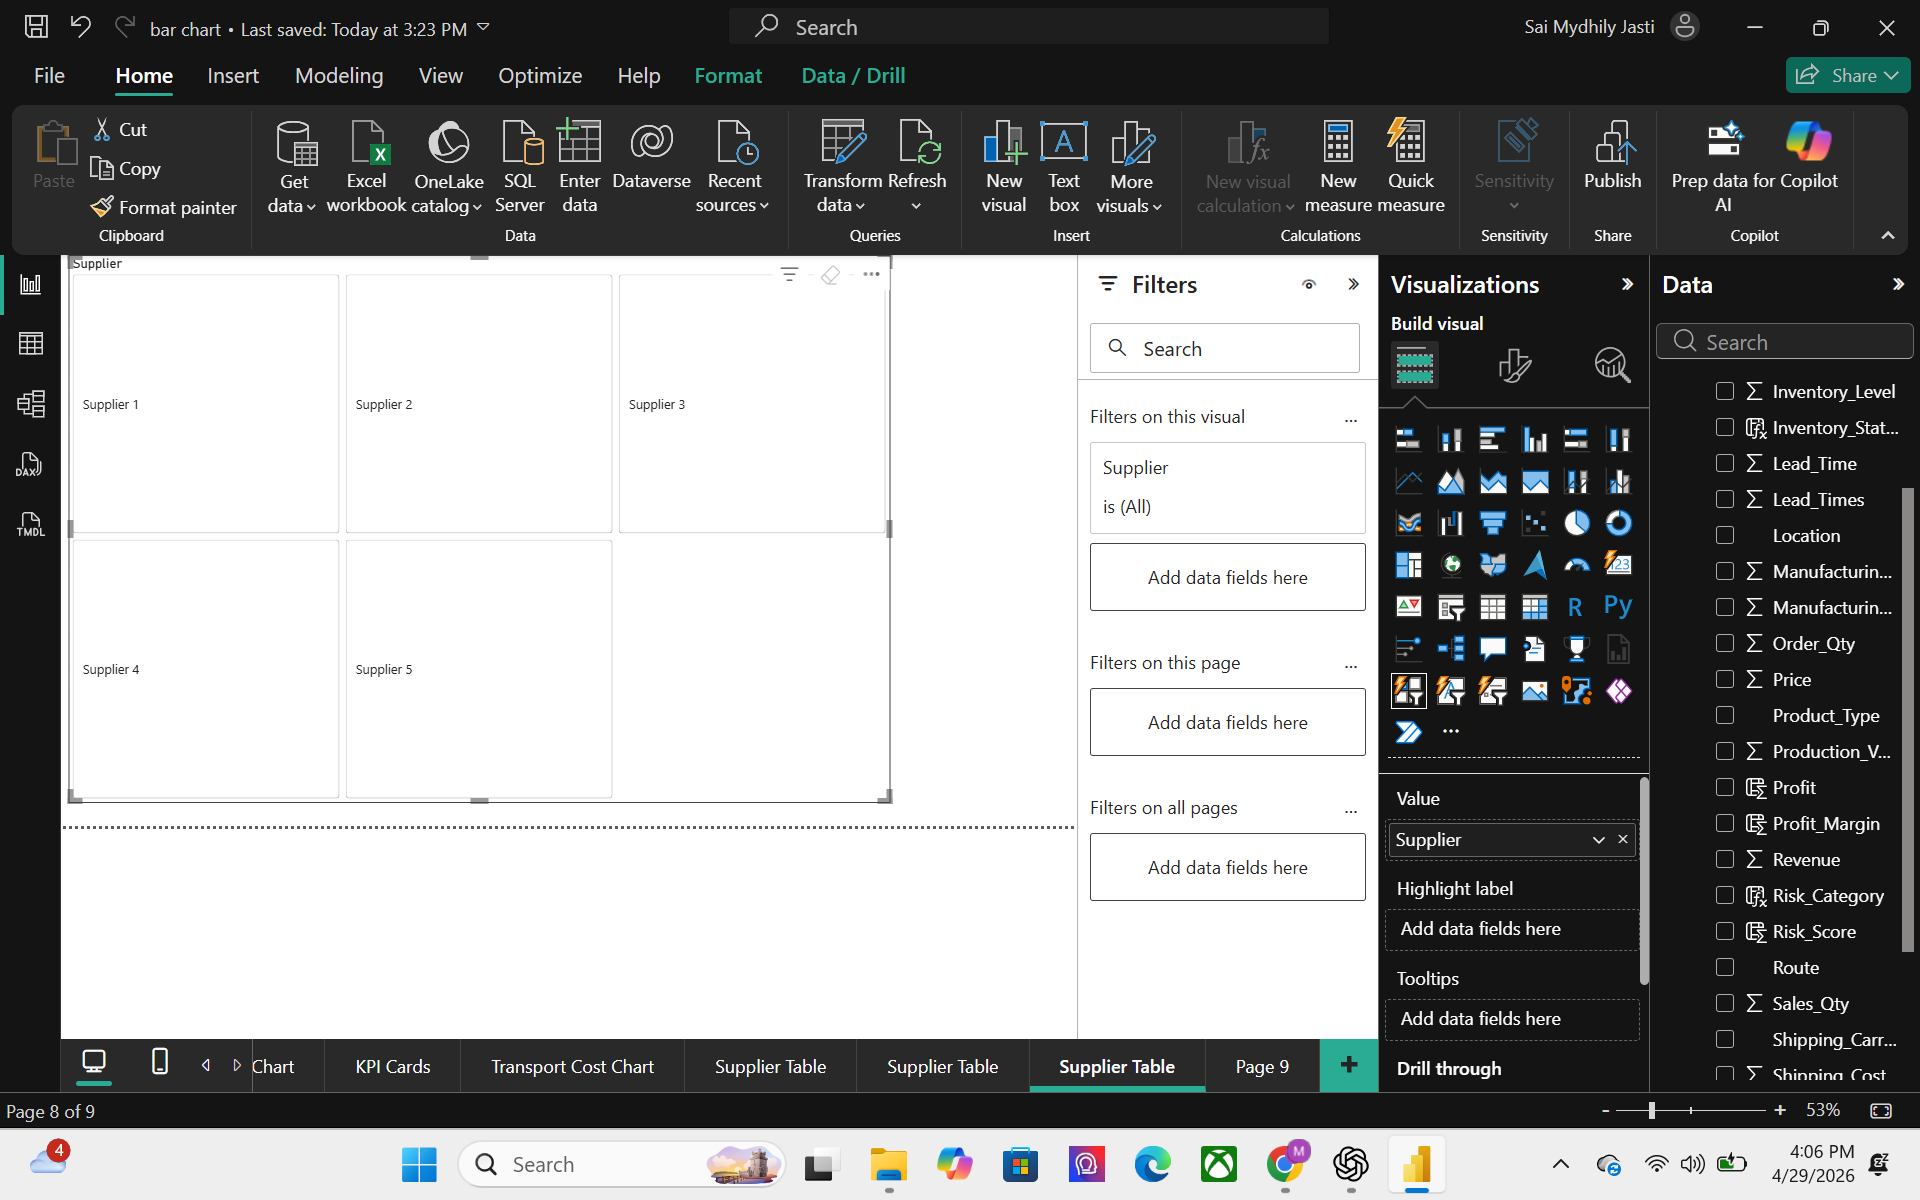

The dashboard page shown, as its layout file describes it:
{"tool":"powerbi","page":{"name":"Supplier Table","canvas":[1280,720],"ordinal":7},"visuals":[{"type":"textSlicer","fields":{"Values":["supply_chain_data.Supplier"]},"box":[10,0,1035,690],"z":0}]}

Visuals, with their boxes on the page's 1280x720 design canvas (x1, y1, x2, y2). These are canvas units, not pixel positions in the 1920x1200 screenshot, which may show the page scaled, cropped or inside an application window:
textSlicer - supply_chain_data.Supplier: box=[10, 0, 1045, 690]
